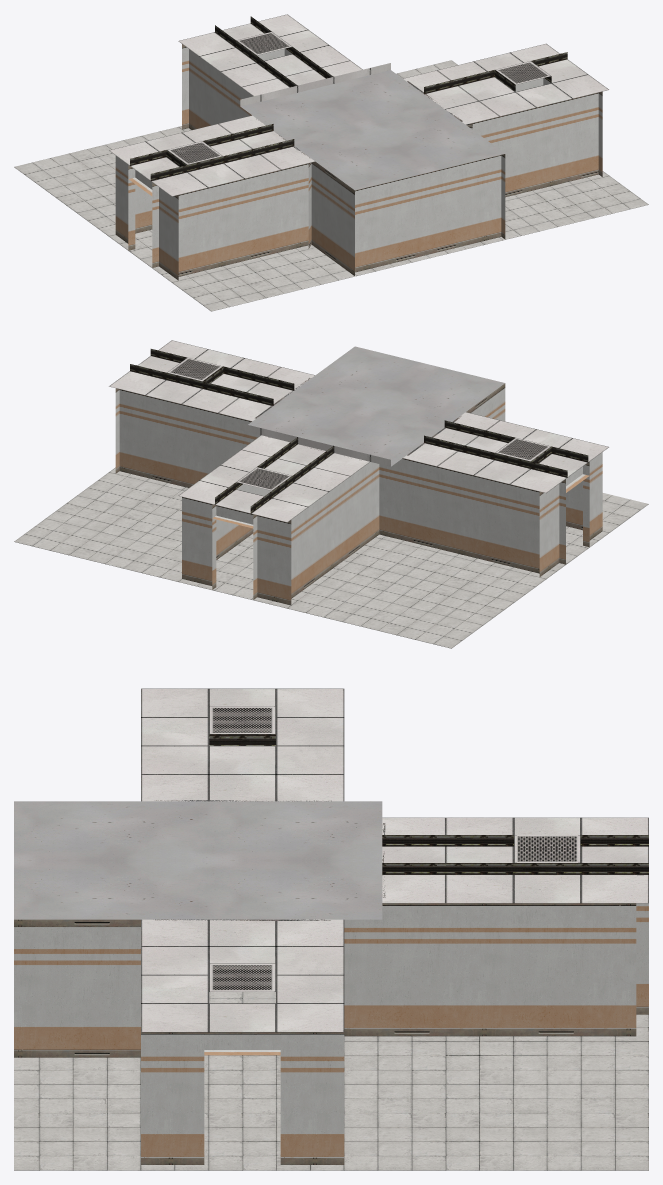
3 views of the same model, one above another, from view 1: azimuth 30°, elevation 25°; view 2: azimuth 150°, elevation 25°; view 3: azimuth 270°, elevation 25° (orthographic). The views are drawn at different scales.
Visible parts, largest first — view 1: classname_brush_004; view 2: classname_brush_004; view 3: classname_brush_004.
Part boxes in pixels (<box>): classname_brush_004: <box>14,14,648,311</box>; classname_brush_004: <box>14,340,648,648</box>; classname_brush_004: <box>14,688,648,1170</box>.
Size of the model in its own units: 2094 by 426 by 1636.
7 materials, 7 textured.
